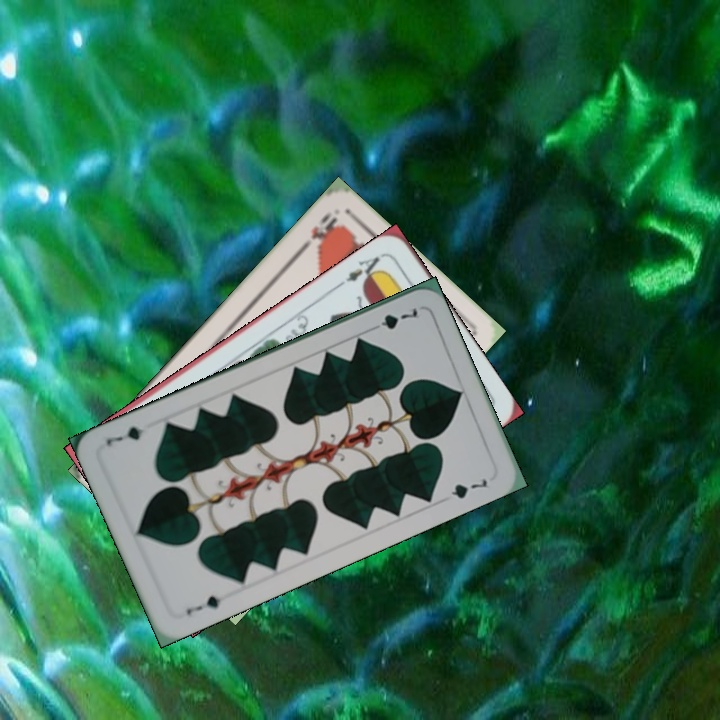EA: (335, 250, 386, 290)
G7: (365, 303, 421, 335), (182, 591, 224, 618)
HO: (294, 208, 340, 257)
